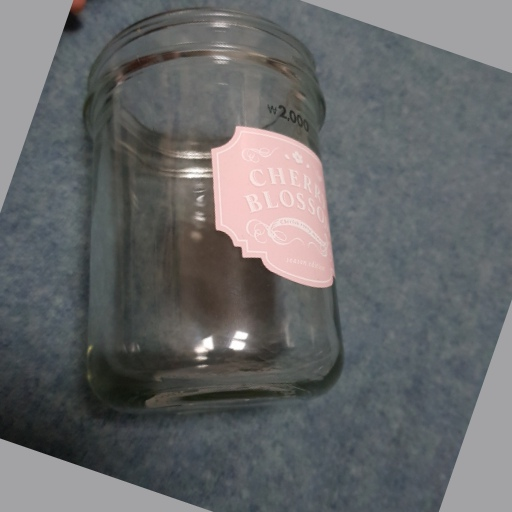Glass_5: (81, 7, 343, 416)
